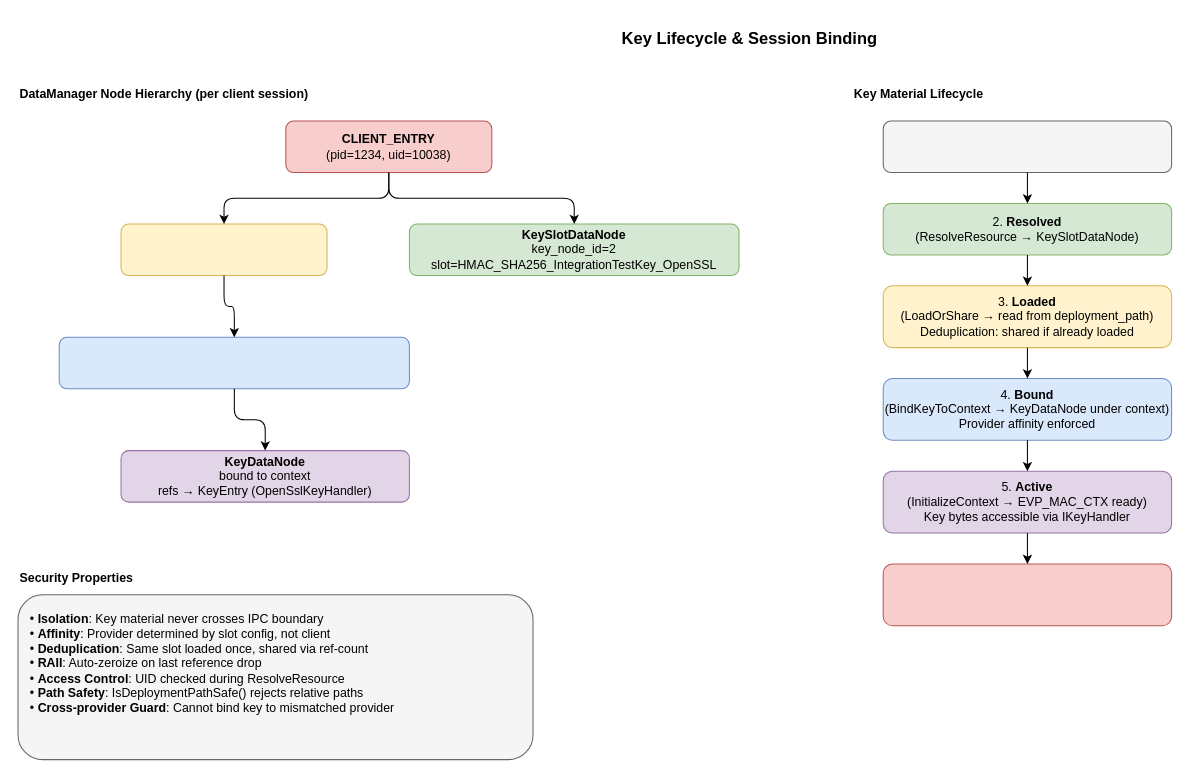
The diagram is 1190 pixels wide and 778 high, and some of its shapes have lost their labels. The box of each missing label's shape, as (x1, y1, x2, y2) in pixels:
1. Configured (crypto_config.json loaded at startup): (882, 120, 1172, 173)
6. Released (Context close → cascade delete) Key zeroized when last ref drops: (882, 563, 1172, 626)
ConnectionDataNode connection_node_id=1: (120, 223, 327, 276)
ContextDataNode context_node_id=3 handler=OpenSslHmacHandler, algo=HMAC-SHA256: (58, 336, 409, 389)
